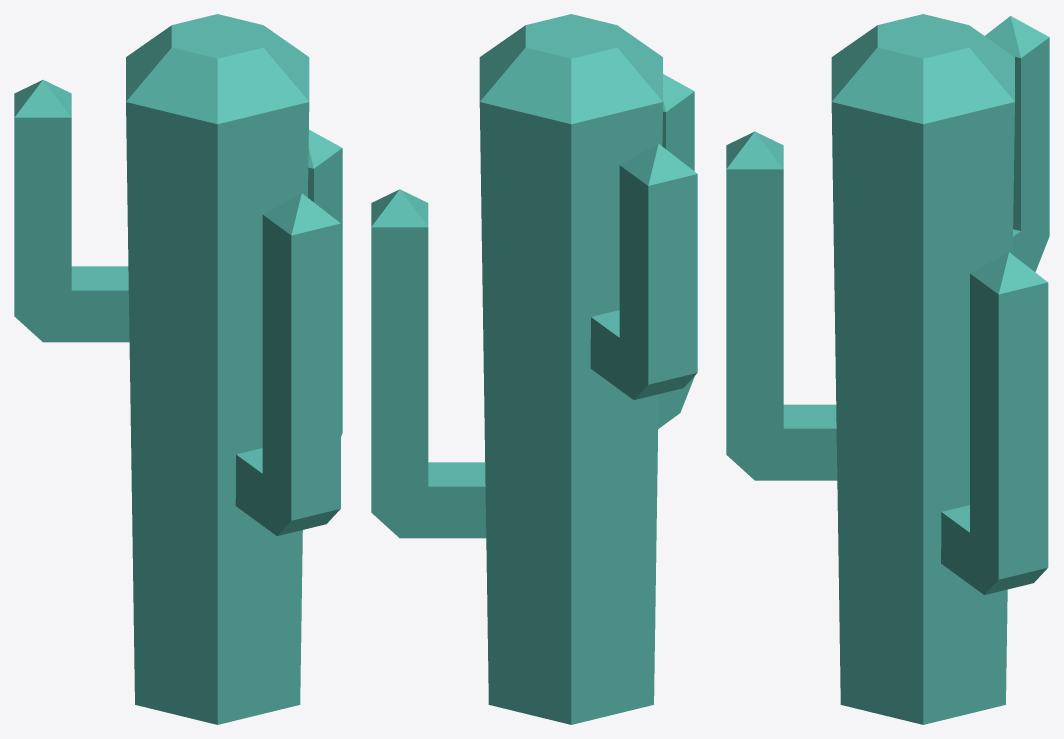
The model's file is cactus_tall.glb.
3 views of the same model, side by side, from view 1: azimuth 30°, elevation 25°; view 2: azimuth 150°, elevation 25°; view 3: azimuth 270°, elevation 25° (orthographic).
Visible parts, largest first — view 1: cactus_tall; view 2: cactus_tall; view 3: cactus_tall.
Boxes of the visible parts, x1,y1,x2,y2 form: cactus_tall: (14, 14, 342, 724); cactus_tall: (371, 14, 697, 724); cactus_tall: (726, 14, 1049, 724).
Bounding box in the file's own units: 0.3962 × 0.75 × 0.3391.
